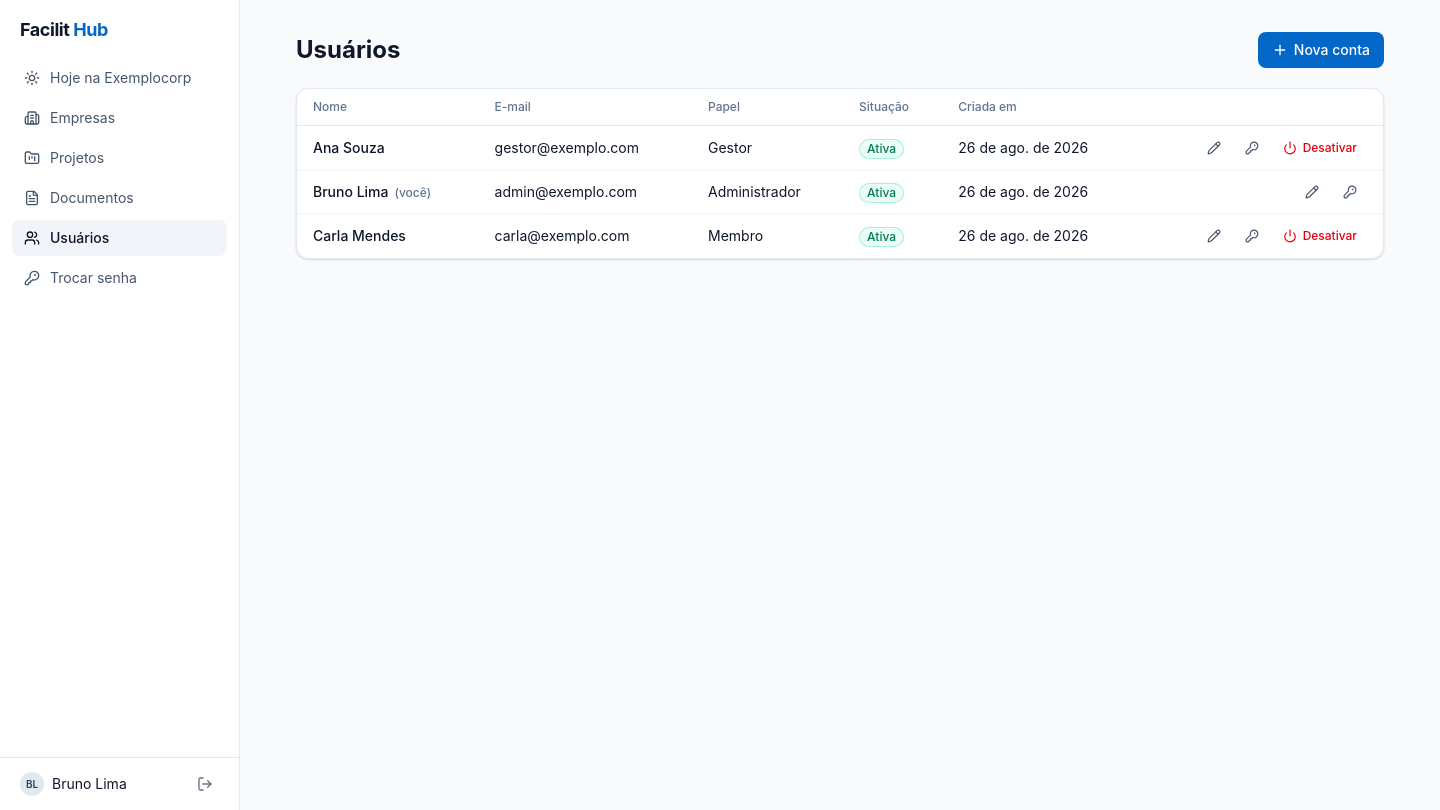
Test: tela de usuários › desativa e reativa; mostra o erro de último administrador
Click the button "Desativar" in the row of "Carla Mendes" at (1320, 236), box [1273,224,1367,248]
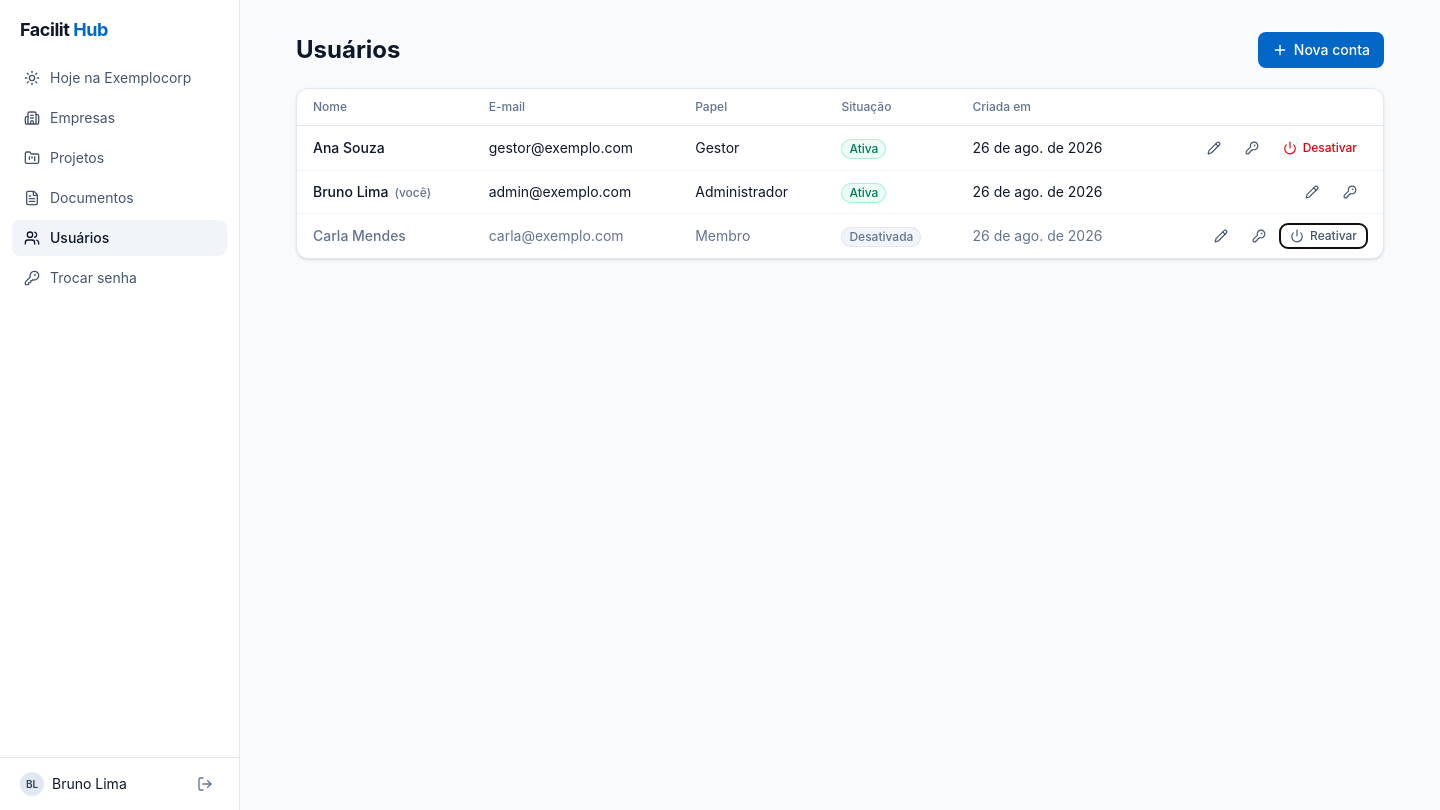
Check: the text "Desativada" is shown, box [841,226,921,246]
Click the button "Reativar" at (1324, 236), box [1280,224,1367,248]
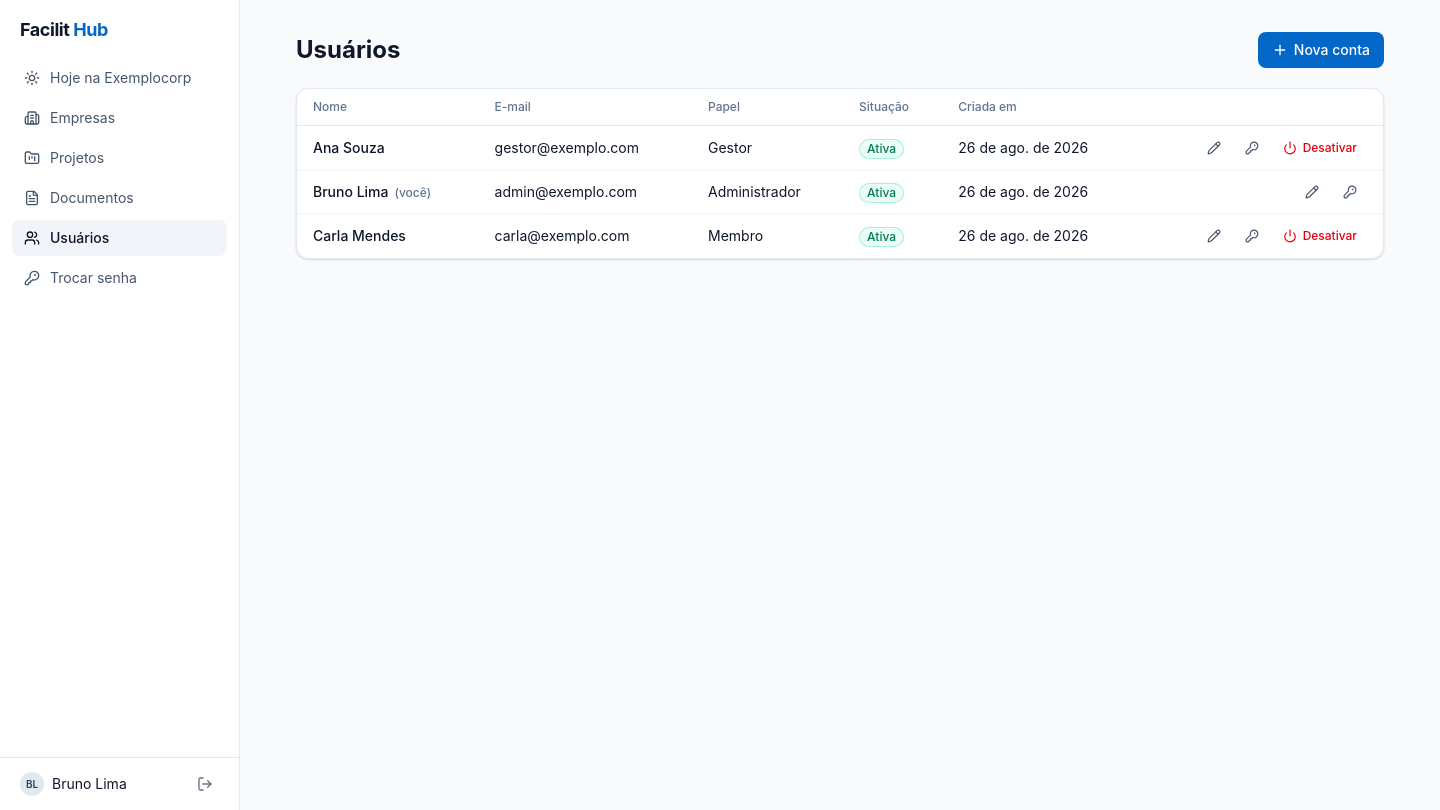
Check: the text "Ativa" in the row of "Carla Mendes" is shown, box [867,228,896,244]
Click the button "Desativar" in the row of "Carla Mendes" at (1320, 236), box [1273,224,1367,248]
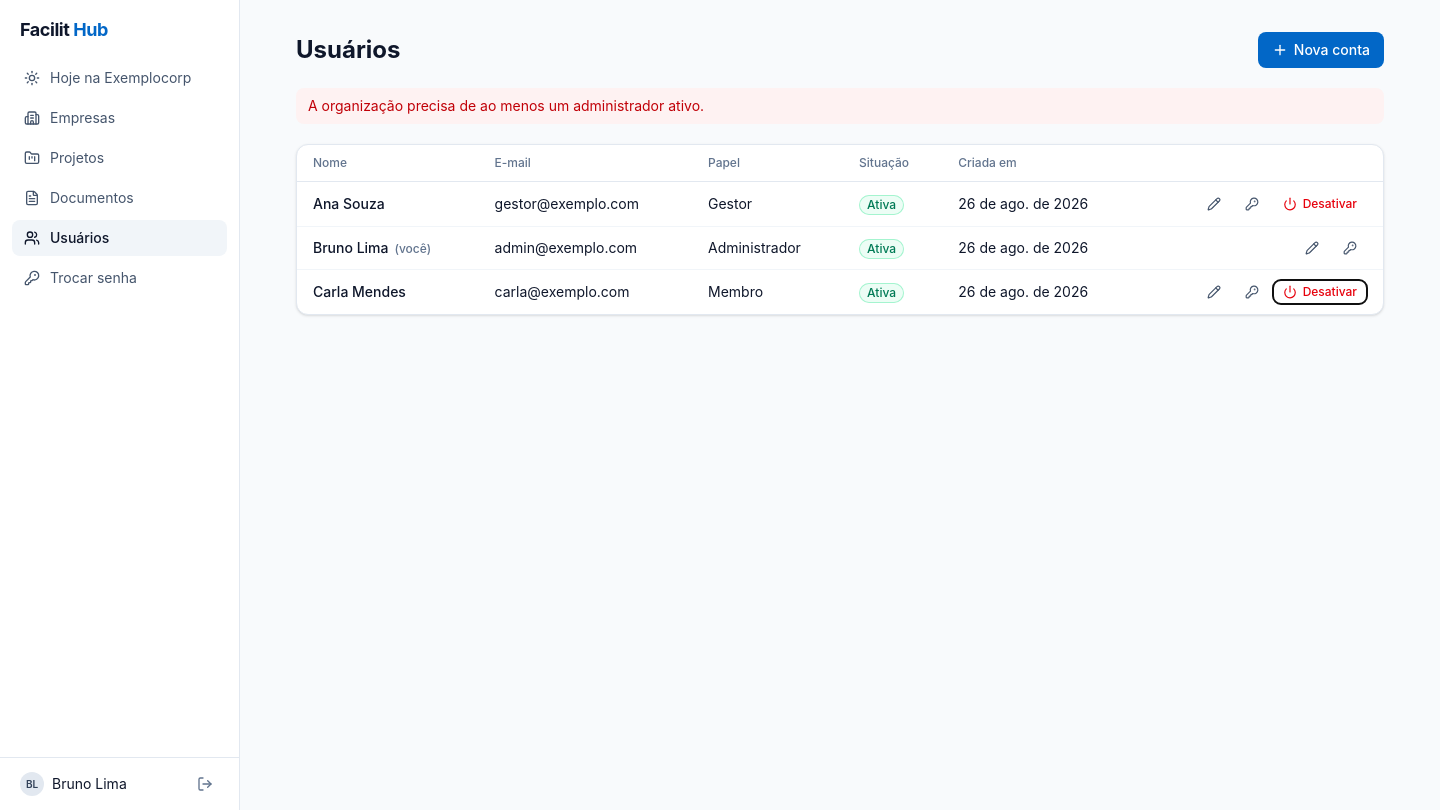
Check: the message reads "A organização precisa de ao menos um administrador ativo.", box [308,97,704,114]
